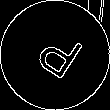P_SW: (26, 24, 84, 86)
